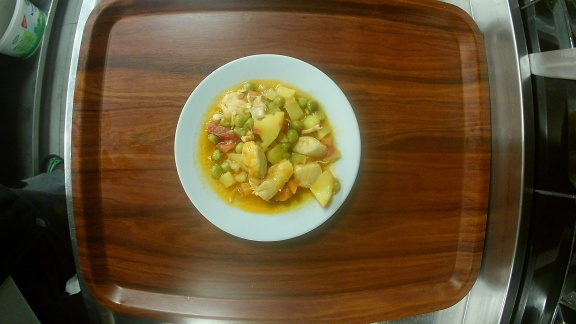bezelyelitavuk: (172, 52, 363, 243)
